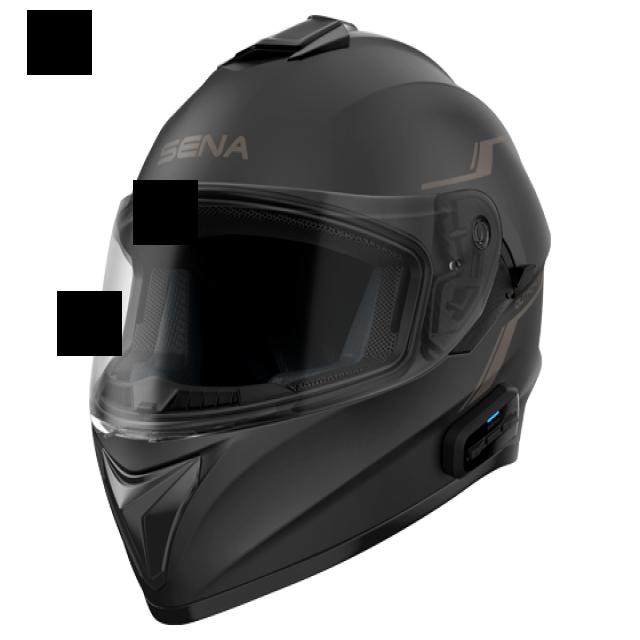Helmet: (80, 11, 559, 640)
